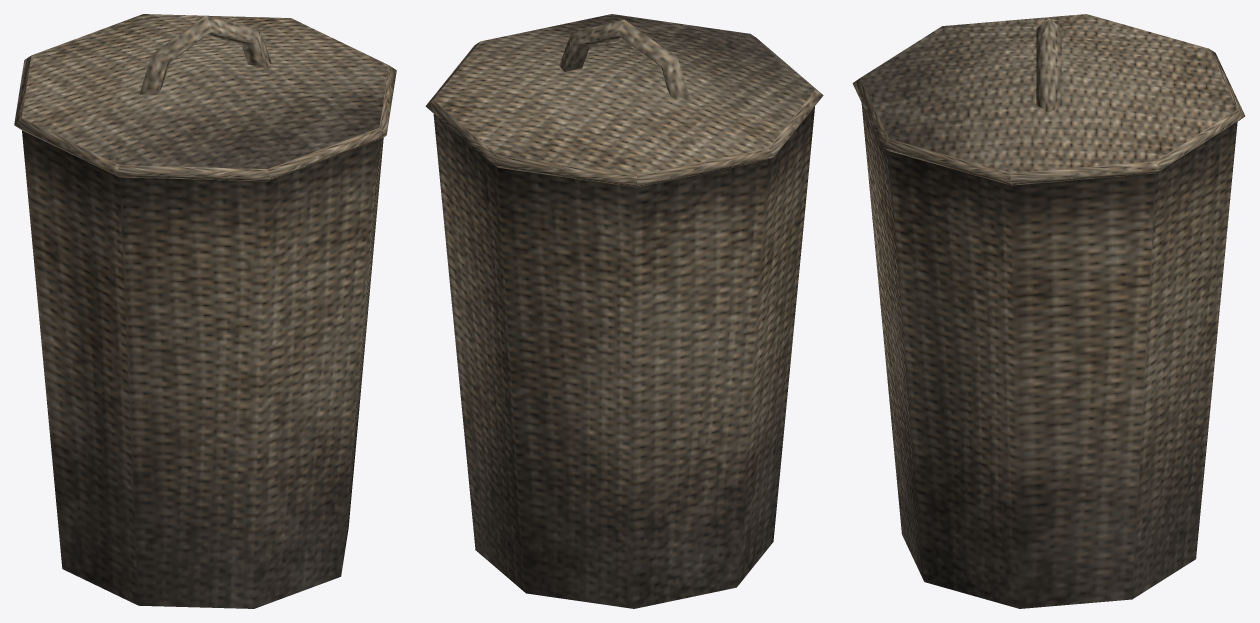
Rendered from Basket1_LOD1.fbx.
The picture shows the model from 3 angles, left to right: view 1: azimuth 30°, elevation 25°; view 2: azimuth 150°, elevation 25°; view 3: azimuth 270°, elevation 25°; orthographic projection.
Visible parts, largest first — view 1: polySurface254; view 2: polySurface254; view 3: polySurface254.
Part boxes in pixels (bbox=[...]): polySurface254: bbox=[14, 14, 396, 608]; polySurface254: bbox=[425, 14, 823, 608]; polySurface254: bbox=[852, 14, 1245, 608].
Size of the model in its own units: 0.8789 by 1.3 by 0.8789.
